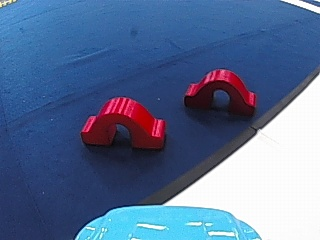bridge: (76, 92, 169, 150), (181, 65, 263, 116)
